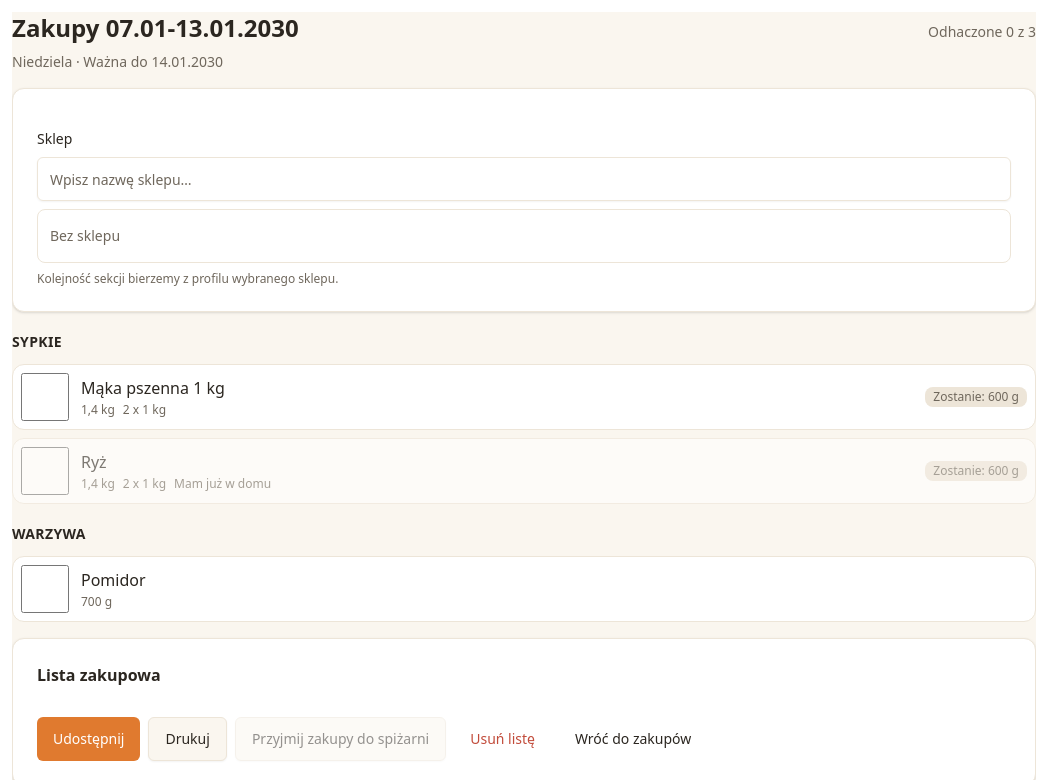
ListaZakupowPage › odhaczenie działa OPTIMISTIC: stan zmienia się przed odpowiedzią serwera
Click the checkbox with test id "shopping-check-1": (45, 397) x1=21 y1=373 x2=69 y2=421
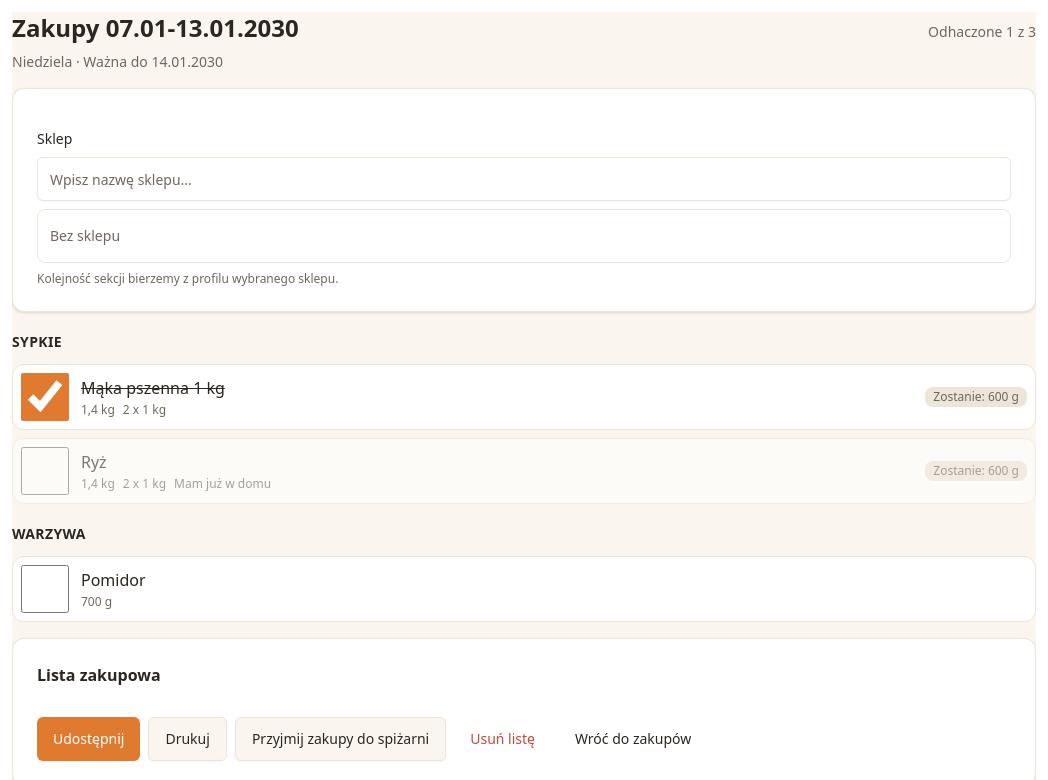
Check: the text with test id "lista-progress" reads "Odhaczone 1 z 3", box x1=928 y1=22 x2=1036 y2=41
